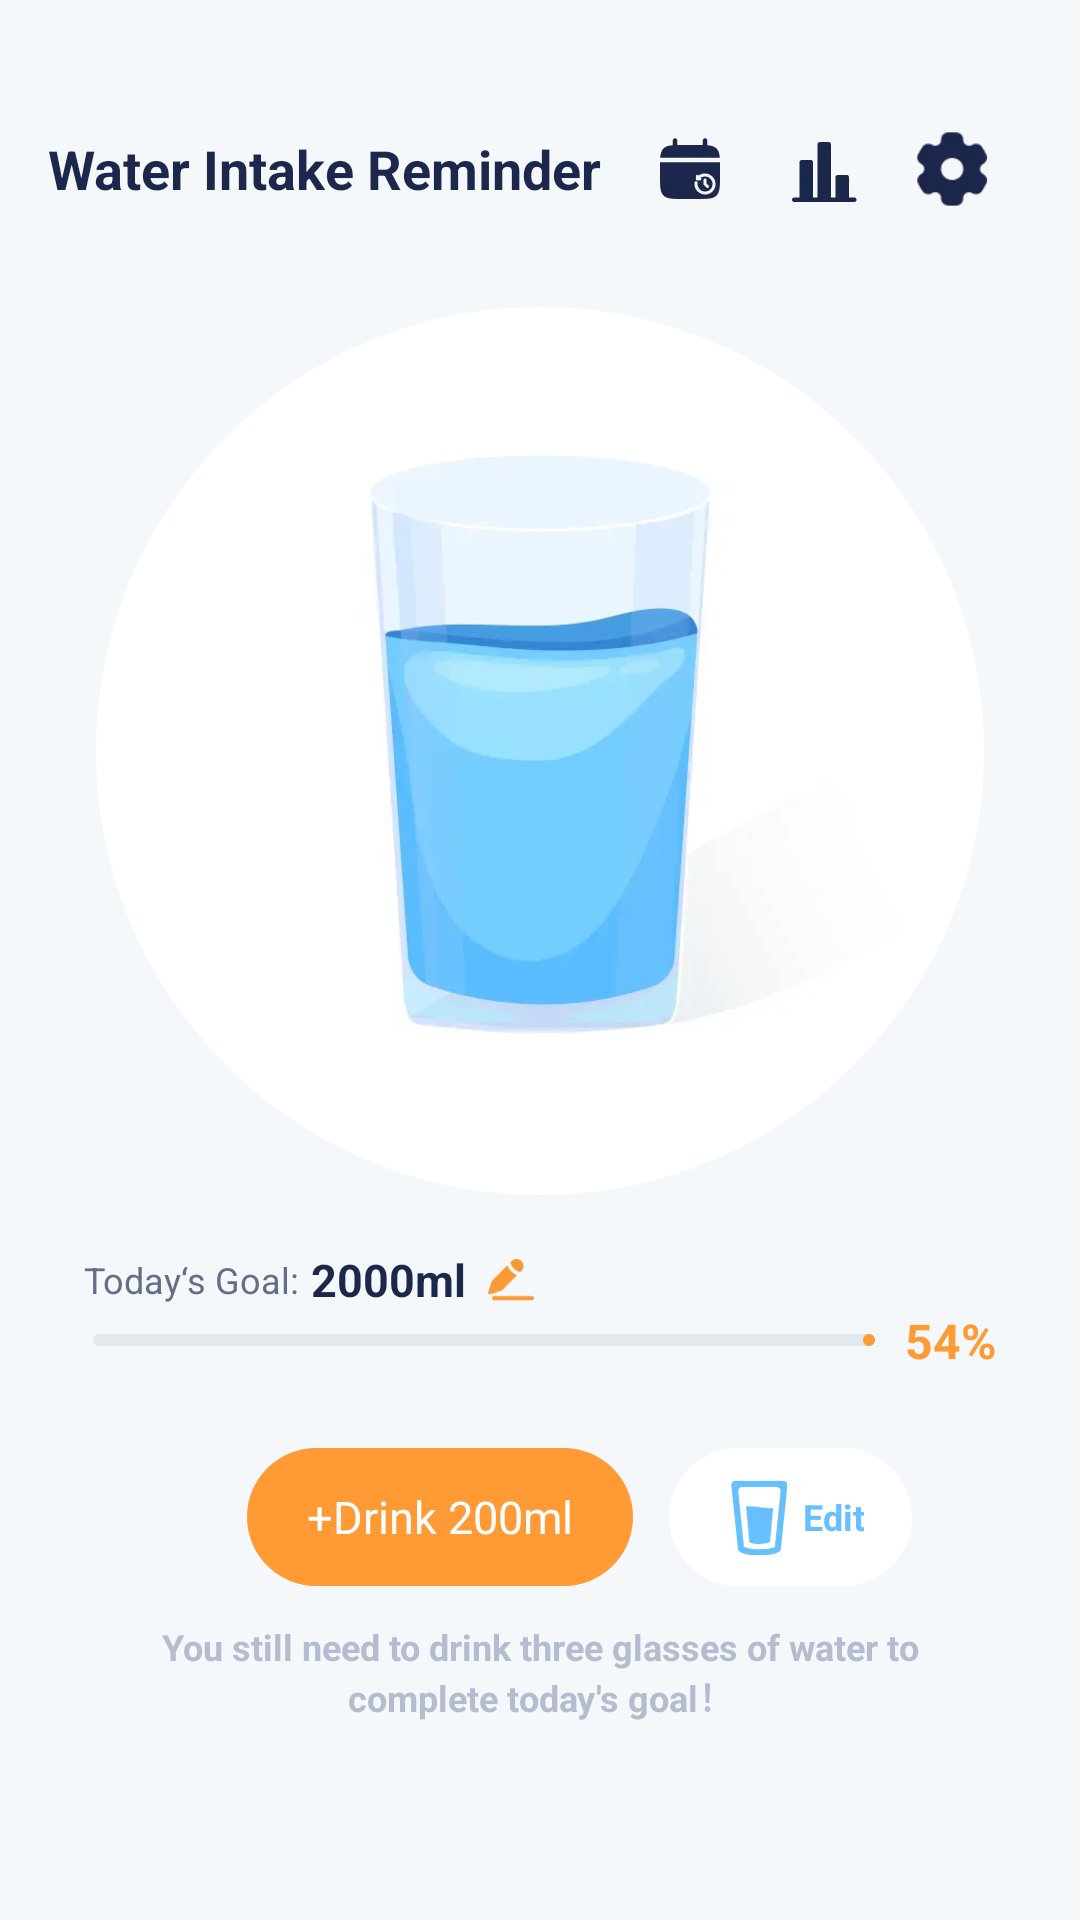

Locate icon controls on the screen. Image size 1080x1920, boxes as [left=x1, top=y1, right=x2, bottom=y2].
edit: [left=488, top=1259, right=535, bottom=1301]
set: [left=917, top=132, right=987, bottom=206]
